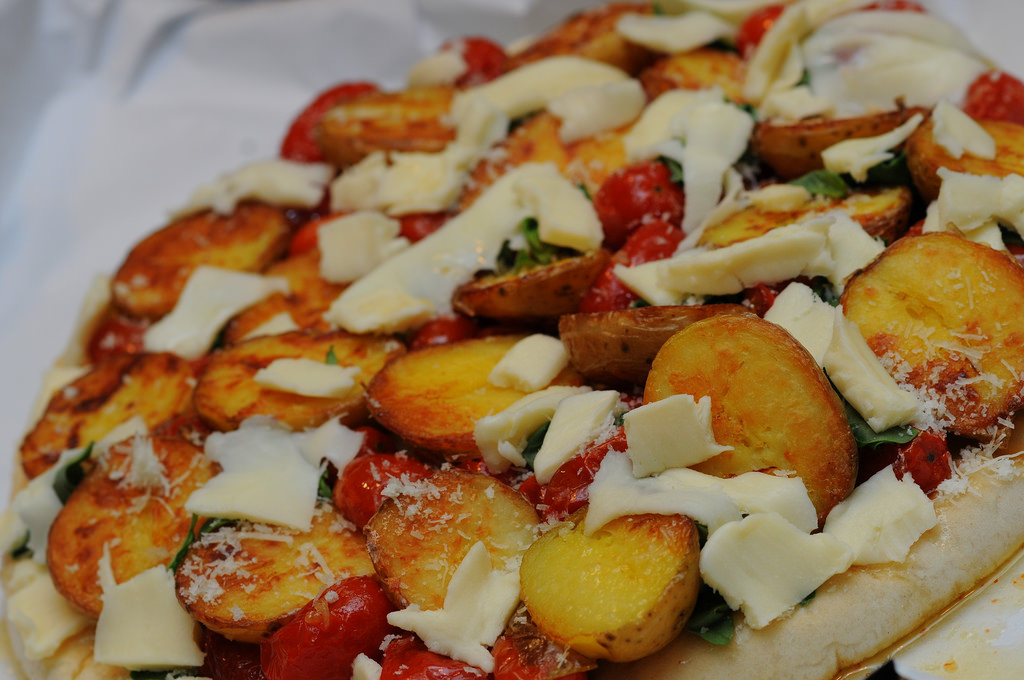boiled potatoes: (642, 307, 863, 519), (843, 216, 1024, 418), (37, 449, 220, 610), (361, 463, 530, 629), (171, 503, 364, 638), (521, 514, 697, 646), (377, 348, 568, 451), (184, 337, 390, 428)
